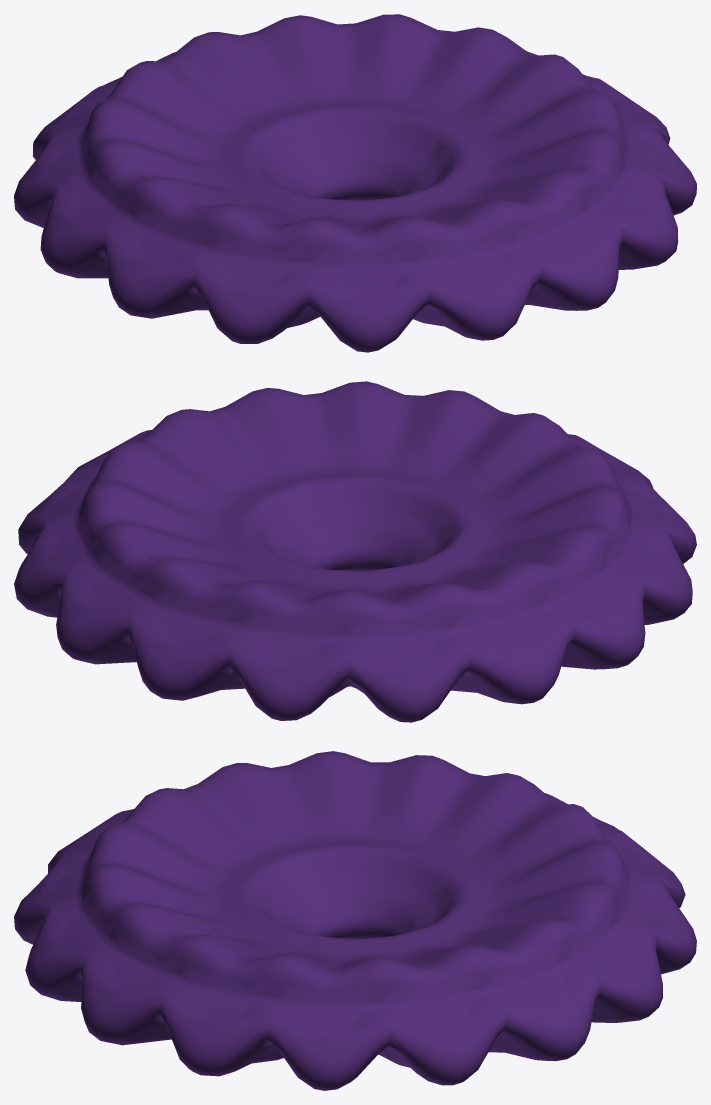
File: vox_shape_01.fbx
3 renders of one model, top to bottom at view 1: azimuth 30°, elevation 25°; view 2: azimuth 150°, elevation 25°; view 3: azimuth 270°, elevation 25°, orthographic.
Visible parts, largest first — view 1: Torus; view 2: Torus; view 3: Torus.
Boxes of the visible parts, x1,y1,x2,y2 form: Torus: (14,14,696,352); Torus: (14,381,696,722); Torus: (14,751,696,1090).
Size of the model in its own units: 141 by 30.62 by 141.
